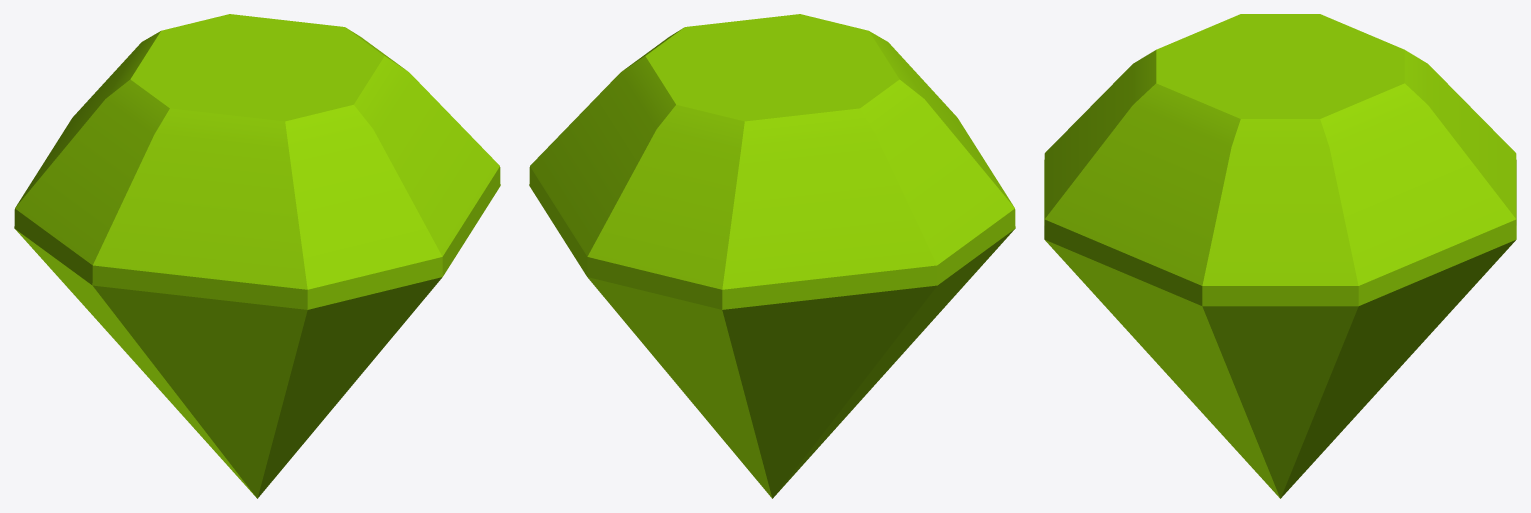
File: Gem_Green.gltf
3 renders of one model, left to right at view 1: azimuth 30°, elevation 25°; view 2: azimuth 150°, elevation 25°; view 3: azimuth 270°, elevation 25°, orthographic.
Parts seen in each view (by area): view 1: Gem_Green; view 2: Gem_Green; view 3: Gem_Green.
Boxes of the visible parts, box(x1,y1,x2,y2) form: Gem_Green: box(14, 14, 500, 498); Gem_Green: box(529, 14, 1015, 498); Gem_Green: box(1044, 14, 1516, 498).
Size of the model in its own units: 1.5 by 1.51 by 1.5.
